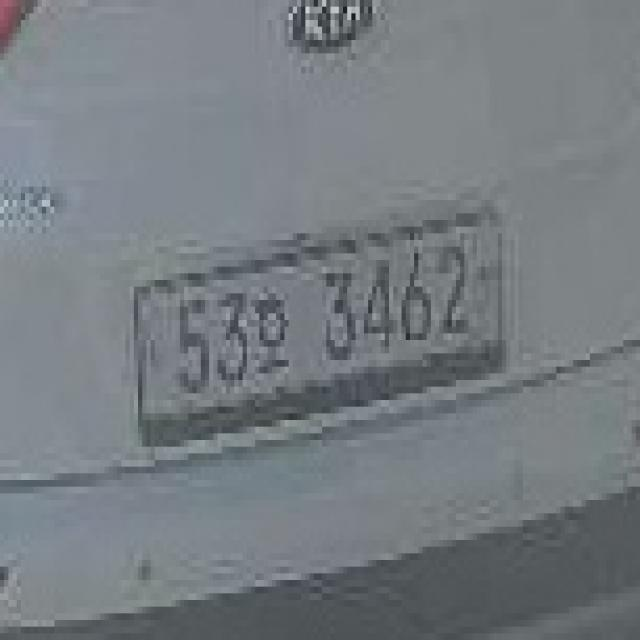2: (431, 220, 477, 347)
3: (322, 254, 360, 374), (213, 260, 247, 393)
4: (360, 233, 397, 360)
5: (168, 287, 214, 400)
6: (397, 233, 435, 360)
ho: (247, 273, 293, 380)
license_plate: (134, 194, 510, 454)
